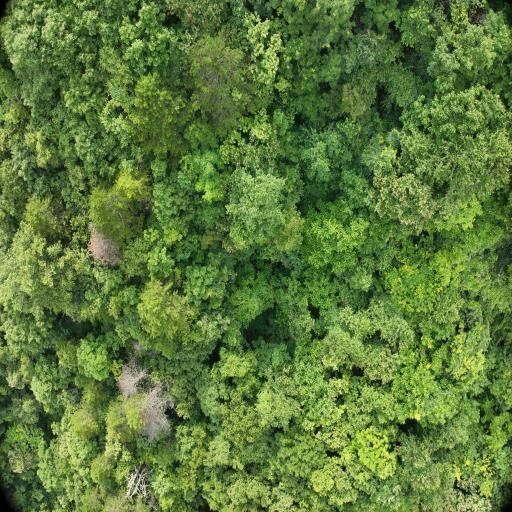dead-tree: (92, 231, 110, 264), (150, 397, 166, 433), (127, 476, 146, 496), (118, 376, 137, 394)
